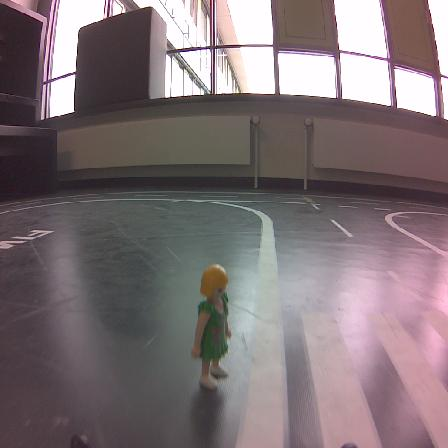PERSON: (191, 264, 231, 389)
